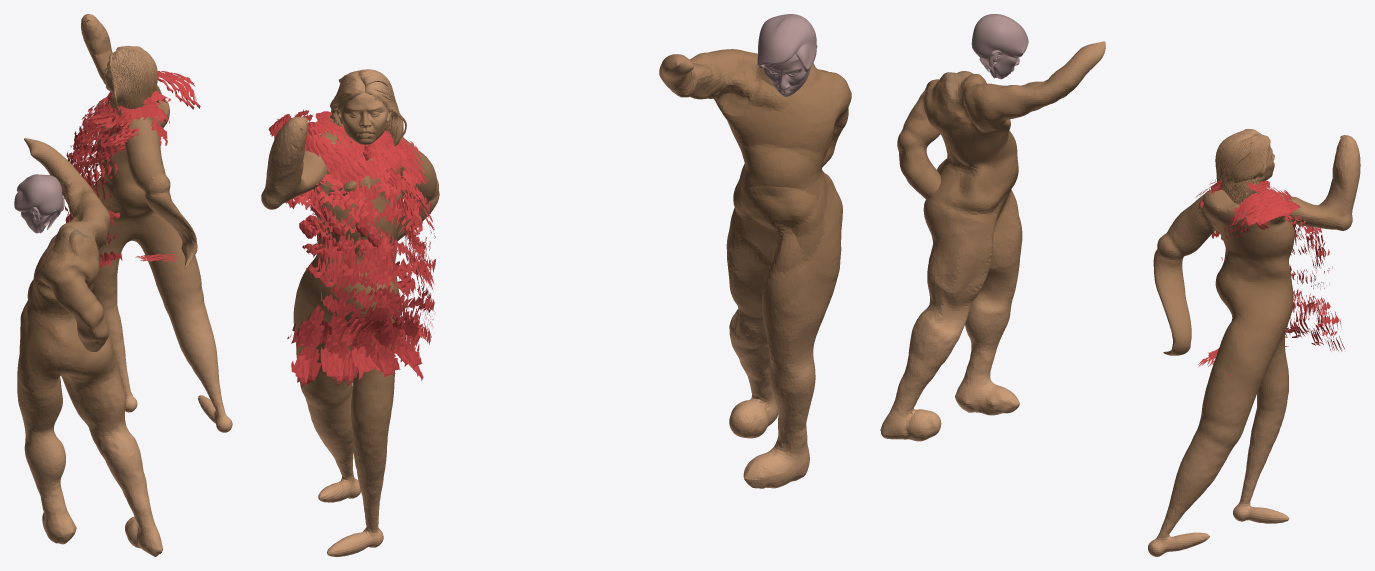
The picture shows the model from 3 angles, left to right: view 1: azimuth 30°, elevation 25°; view 2: azimuth 150°, elevation 25°; view 3: azimuth 270°, elevation 25°; orthographic projection. The views are drawn at different scales.
Bounding box in the file's own units: 2.65 × 3.16 × 3.4.
